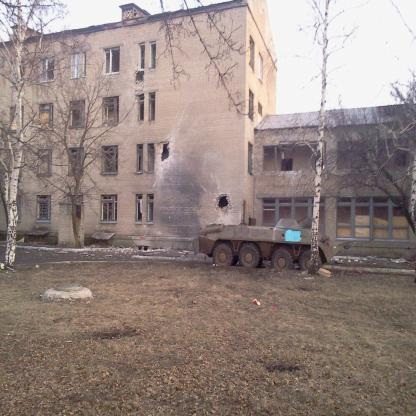MIL_IFV: (197, 218, 335, 273)
